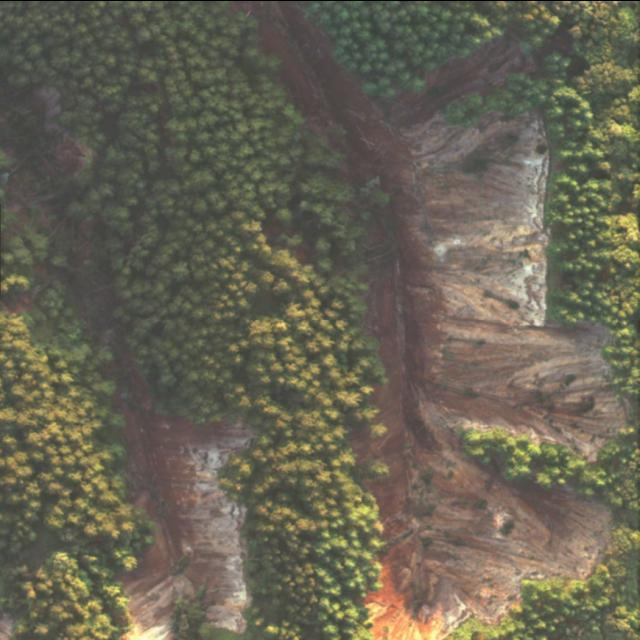landslide: (253, 0, 627, 640), (1, 85, 252, 640)
